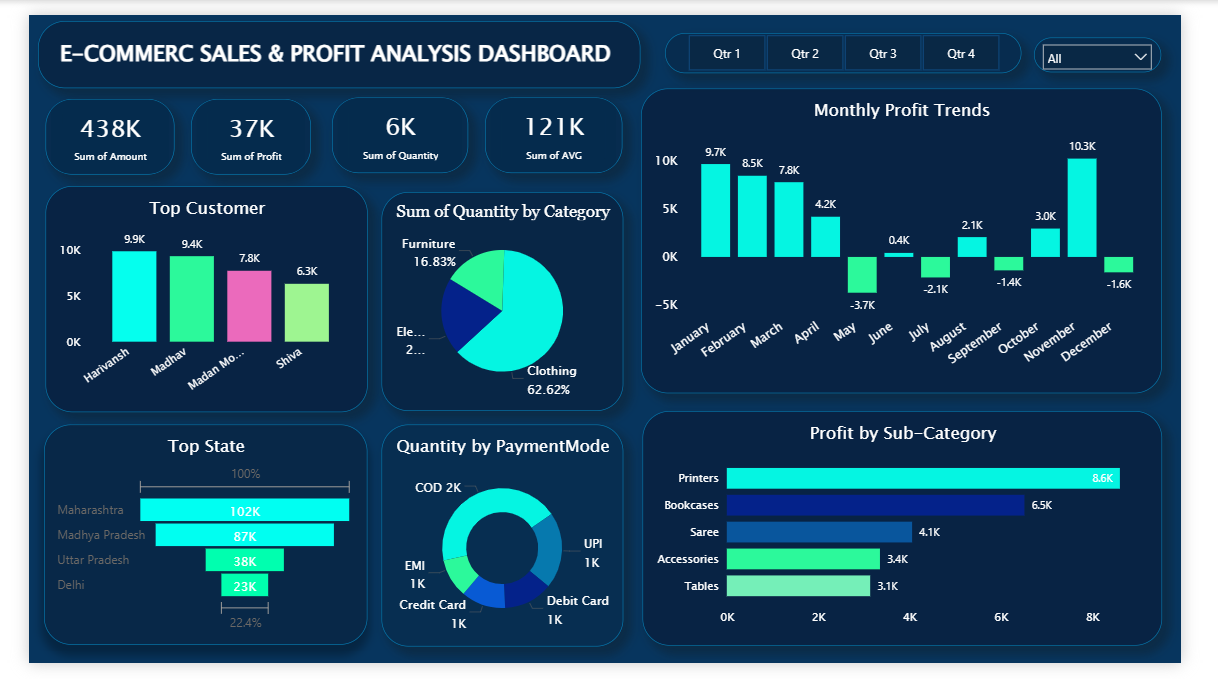

This screenshot's page, from the dashboard's own definition file:
{"tool":"powerbi","page":{"name":"Page 1","canvas":[1280,720],"ordinal":0},"visuals":[{"type":"textbox","box":[9.5,9.5,672.8,76.3],"z":0},{"type":"columnChart","title":"Monthly Profit Trends","fields":{"Category":["Orders.Order Date.Variation.Date Hierarchy.Month"],"Y":["Sum(Details.Profit)"]},"box":[679.2,81.1,579,338.8],"z":1000},{"type":"clusteredBarChart","title":"Profit by Sub-Category","fields":{"Category":["Details.Sub-Category"],"Y":["Sum(Details.Profit)"]},"box":[682.4,440.6,577.4,260.9],"z":2000},{"type":"donutChart","fields":{"Category":["Details.Category"],"Y":["Sum(Details.Quantity)"]},"box":[391.3,197.2,268.8,243.4],"z":3000},{"type":"donutChart","title":"Quantity by PaymentMode","fields":{"Category":["Details.PaymentMode"],"Y":["Sum(Details.Quantity)"]},"box":[391.3,454.9,268.8,246.5],"z":4000},{"type":"cardVisual","fields":{"Data":["Sum(Details.Amount)"]},"box":[19.1,97,143.2,84.3],"z":5000},{"type":"cardVisual","fields":{"Data":["Sum(Details.Profit)"]},"box":[179.7,93.8,133.6,84.3],"z":6000},{"type":"cardVisual","fields":{"Data":["Sum(Details.Quantity)"]},"box":[337.2,92.3,151.1,84.3],"z":7000},{"type":"cardVisual","fields":{"Data":["Sum(Details.AVG)"]},"box":[507.4,92.3,152.7,84.3],"z":8000},{"type":"areaChart","title":"Top State","fields":{"Category":["Orders.State"],"Y":["Sum(Details.Amount)"]},"box":[17.5,454.9,359.5,245],"z":9000},{"type":"columnChart","title":"Top Customer","fields":{"Category":["Orders.CustomerName"],"Y":["Sum(Details.Amount)"]},"box":[19.1,189.3,357.9,251.3],"z":10000},{"type":"slicer","fields":{"Values":["Orders.Order Date.Variation.Date Hierarchy.Quarter"]},"box":[706.2,20.7,396.1,44.5],"z":11000},{"type":"slicer","fields":{"Values":["Orders.State"]},"box":[1116.8,24.3,141.6,38.4],"z":12000}]}

Visuals, with their boxes in screenshot pixels (x1, y1, x2, y2), scaled from the page's 1280x720 canvas onto the 1218x679 screenshot:
textbox: (left=9, top=9, right=649, bottom=81)
"Monthly Profit Trends" columnChart: (left=646, top=76, right=1197, bottom=396)
"Profit by Sub-Category" clusteredBarChart: (left=649, top=416, right=1199, bottom=662)
donutChart - Details.Category x Sum(Details.Quantity): (left=372, top=186, right=628, bottom=416)
"Quantity by PaymentMode" donutChart: (left=372, top=429, right=628, bottom=661)
cardVisual - Sum(Details.Amount): (left=18, top=91, right=154, bottom=171)
cardVisual - Sum(Details.Profit): (left=171, top=88, right=298, bottom=168)
cardVisual - Sum(Details.Quantity): (left=321, top=87, right=465, bottom=167)
cardVisual - Sum(Details.AVG): (left=483, top=87, right=628, bottom=167)
"Top State" areaChart: (left=17, top=429, right=359, bottom=660)
"Top Customer" columnChart: (left=18, top=179, right=359, bottom=416)
slicer - Orders.Order Date.Variation.Date Hierarchy.Quarter: (left=672, top=20, right=1049, bottom=61)
slicer - Orders.State: (left=1063, top=23, right=1197, bottom=59)
